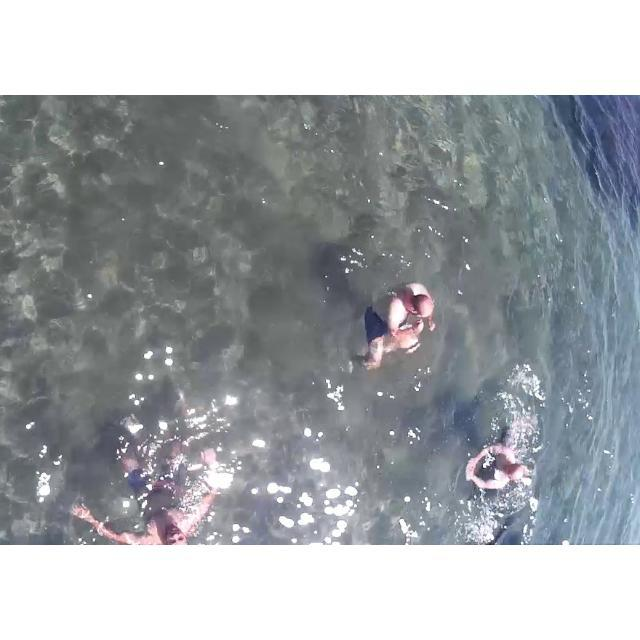human: (370, 265, 436, 385), (469, 435, 530, 512)
